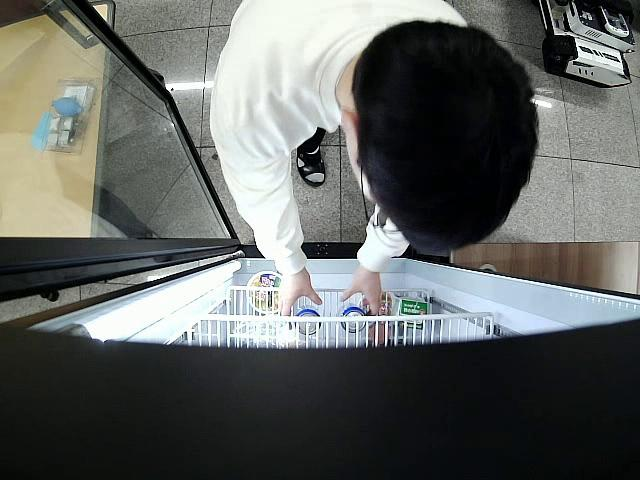00_hand: (339, 271, 385, 331), (274, 273, 321, 331)
